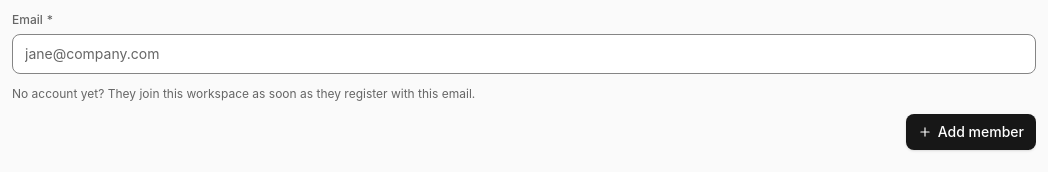
Test: trims the email, submits it, and clears the form
Type "  grace@example.com " into the field labelled "Email".
click(524, 54); type("  grace@example.com ")  # box [12,34,1036,74]
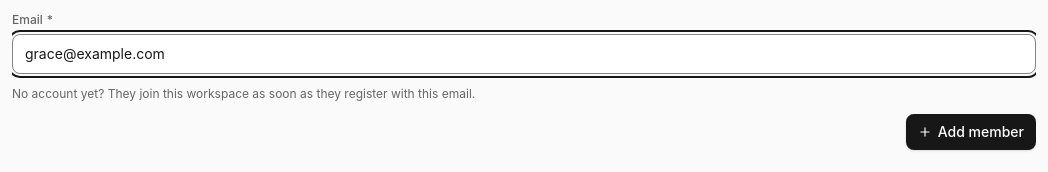
Click the button "Add member".
click(971, 132)  # box [906,114,1036,150]
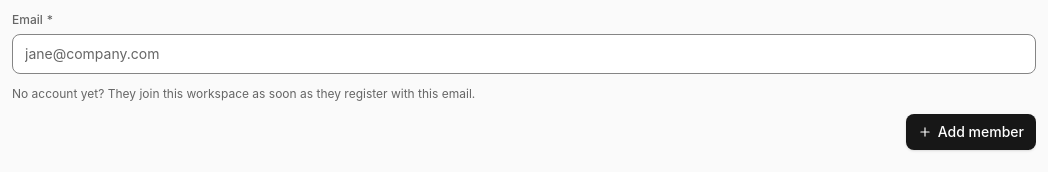
Expected: the field labelled "Email" is empty, [12,34,1036,74]
